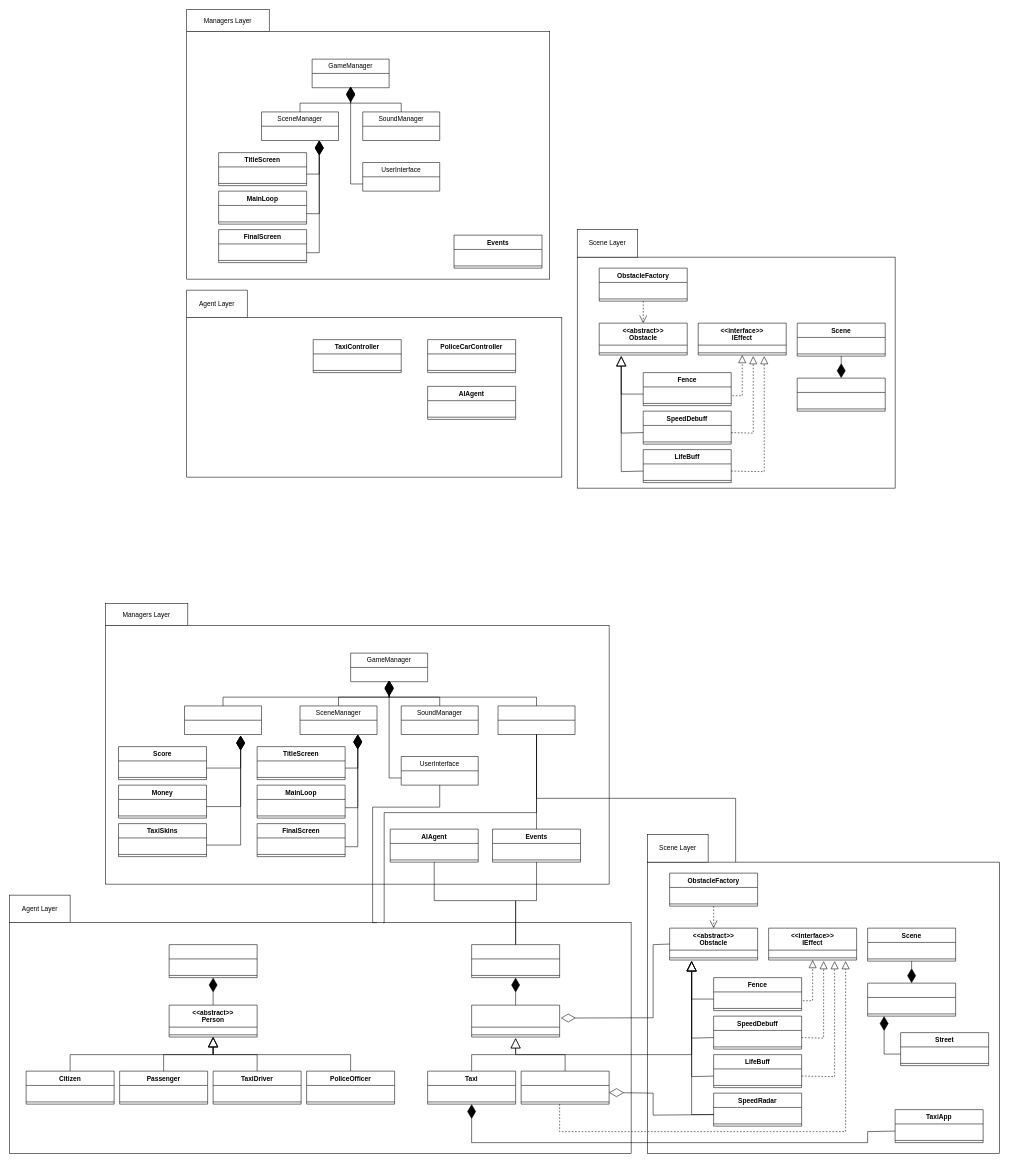
Some shapes in this 1009 by 1167 pixel diagram are drawn without their labels. The shapes that lost their labels are listed below. From the top down, each one's box as (x1, y1, x2, y2) in pixels, then its label:
(797, 378, 885, 411): City (Main Loop)
(184, 705, 262, 735): DataManager
(497, 705, 575, 735): StateMachine
(169, 944, 257, 978): PersonController
(471, 944, 560, 978): VehicleController
(867, 983, 956, 1016): City
(471, 1005, 560, 1037): <<abstract>> Vehicle
(521, 1071, 609, 1104): PoliceCar
